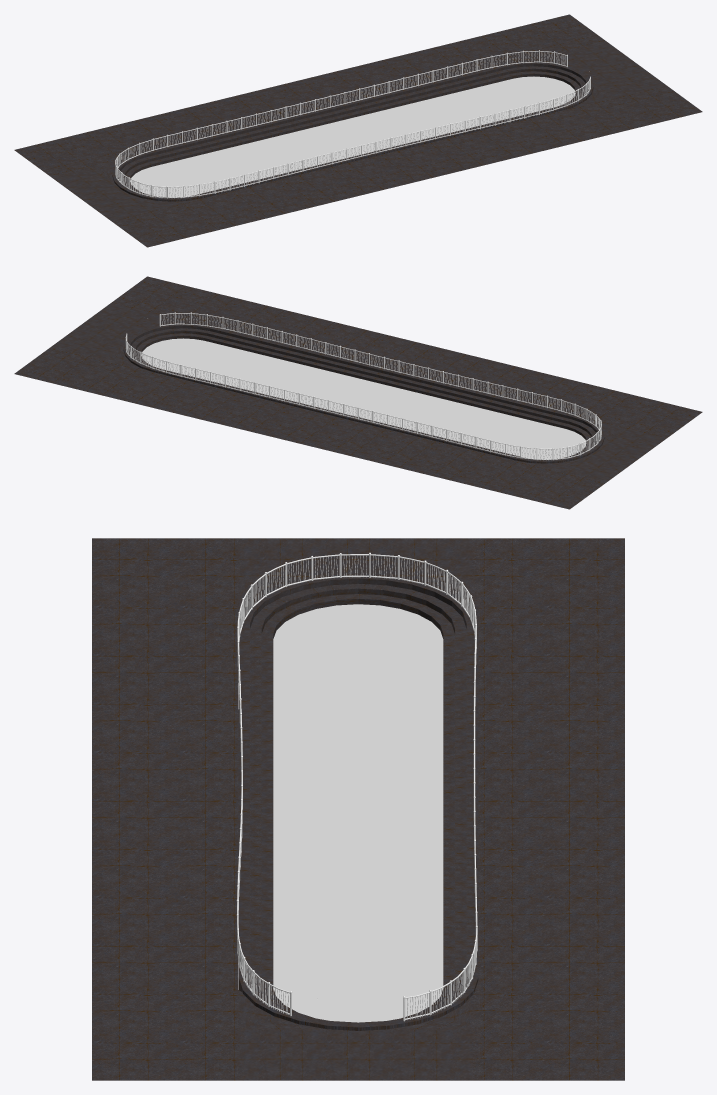
The model's file is WaterRoom.fbx.
3 views of the same model, one above another, from view 1: azimuth 30°, elevation 25°; view 2: azimuth 150°, elevation 25°; view 3: azimuth 270°, elevation 25° (orthographic). The views are drawn at different scales.
Visible parts, largest first — view 1: Plane.001, Plane, Cube, Ironfence; view 2: Plane.001, Plane, Cube, Ironfence; view 3: Plane.001, Plane, Cube, Ironfence.
Part boxes in pixels (bbox=[...]): Plane.001: bbox=[14, 14, 702, 247]; Plane: bbox=[130, 76, 575, 197]; Cube: bbox=[112, 61, 593, 201]; Ironfence: bbox=[115, 50, 590, 198]; Plane.001: bbox=[14, 276, 702, 509]; Plane: bbox=[141, 338, 586, 459]; Cube: bbox=[123, 323, 604, 463]; Ironfence: bbox=[125, 312, 601, 460]; Plane.001: bbox=[92, 538, 624, 1080]; Plane: bbox=[273, 604, 443, 1022]; Cube: bbox=[238, 573, 478, 1030]; Ironfence: bbox=[236, 552, 477, 1021].
Size of the model in its own units: 5226 by 205 by 2172.
